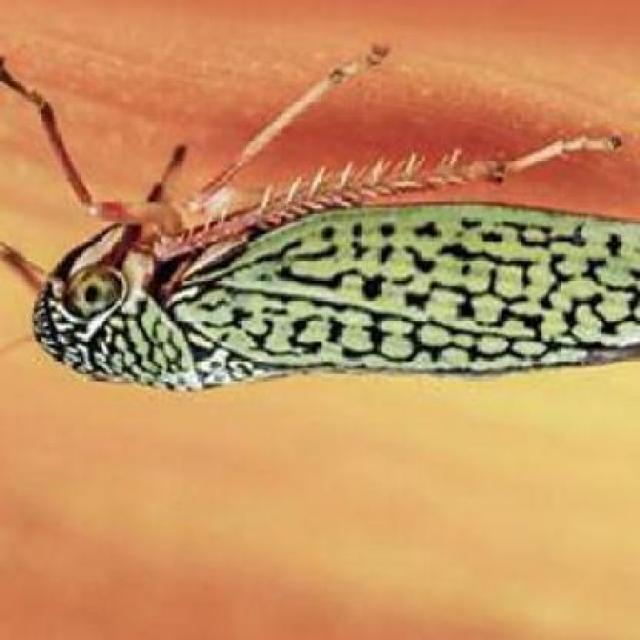green-leafhopper: (0, 170, 638, 387)
